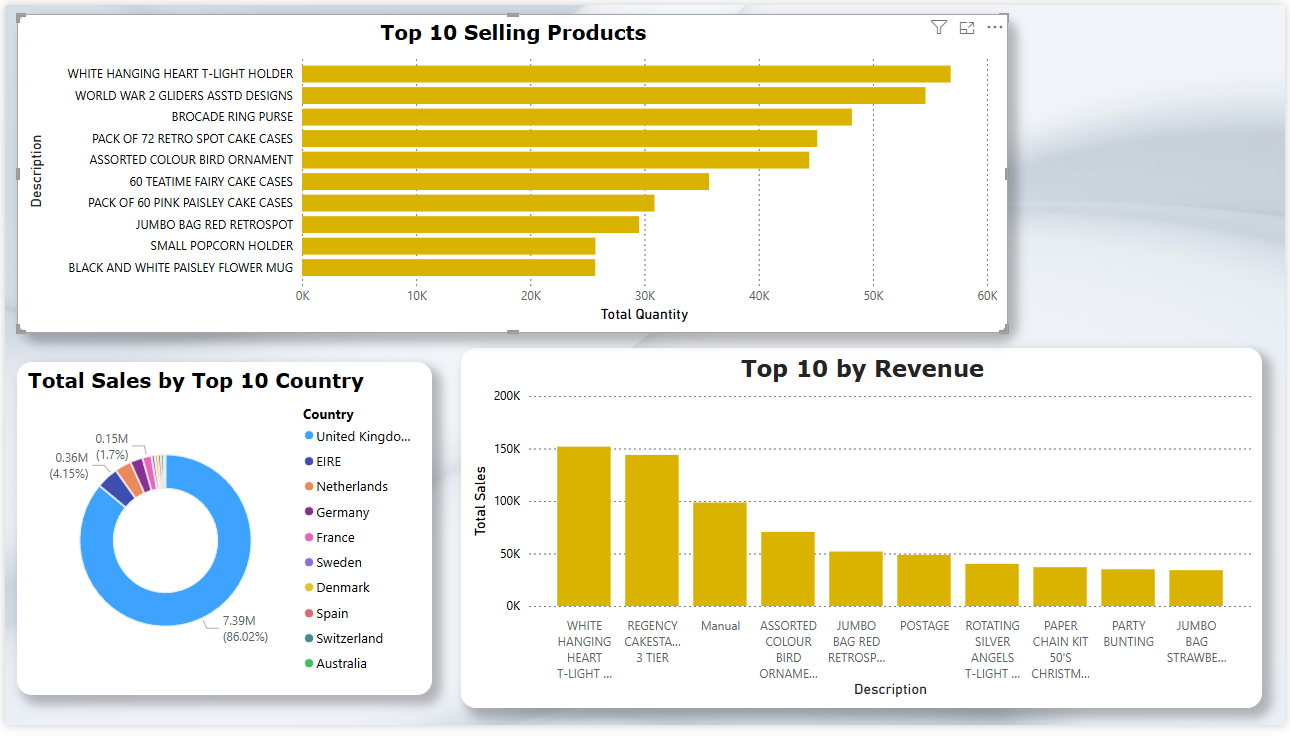

The dashboard page shown, as its layout file describes it:
{"tool":"powerbi","page":{"name":"Page 3","canvas":[1280,720],"ordinal":1},"visuals":[{"type":"clusteredBarChart","title":"Top 10 Selling Products","fields":{"Category":["FIData.Description"],"Y":["FIData.Total Quantity"]},"box":[12.2,8.9,991.1,318.9],"z":0},{"type":"clusteredColumnChart","title":"Top 10 by Revenue","fields":{"Category":["FIData.Description"],"Y":["FIData.Total Sales"]},"box":[455.6,343.3,801.1,360],"z":1000},{"type":"donutChart","title":"Total Sales by Top 10 Country","fields":{"Y":["FIData.Total Sales"],"Category":["FIData.Country"]},"box":[12.2,356.7,414.4,333.3],"z":2000}]}

Visuals, with their boxes in screenshot pixels (x1, y1, x2, y2), scaled from the page's 1280x720 canvas onto the 1290x743 screenshot:
"Top 10 Selling Products" clusteredBarChart: {"x1": 12, "y1": 9, "x2": 1011, "y2": 338}
"Top 10 by Revenue" clusteredColumnChart: {"x1": 459, "y1": 354, "x2": 1267, "y2": 726}
"Total Sales by Top 10 Country" donutChart: {"x1": 12, "y1": 368, "x2": 430, "y2": 712}
